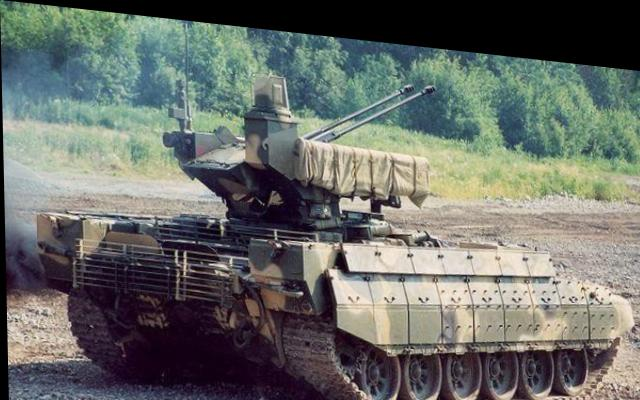tank: (25, 170, 630, 400)
